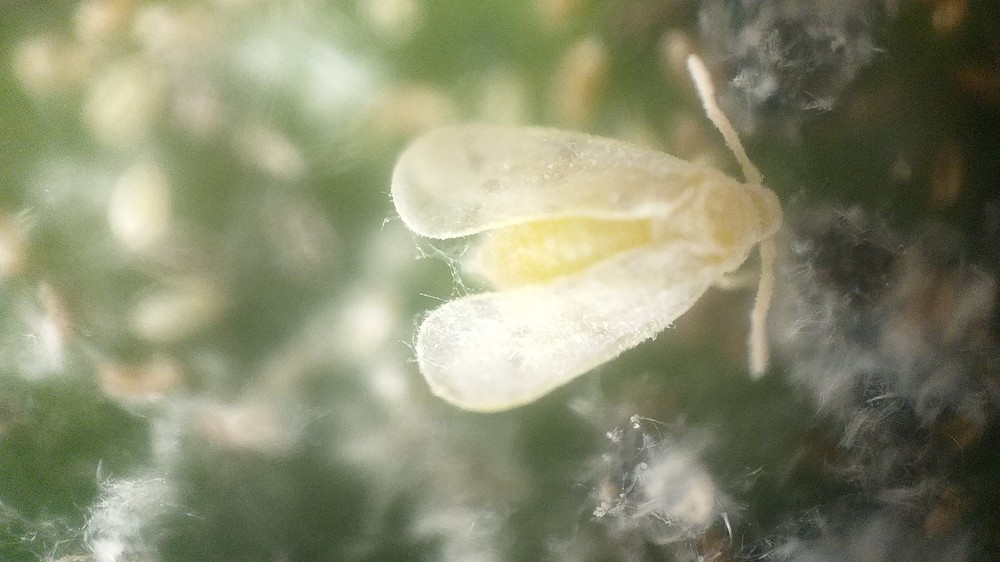Mosca Blanca: (381, 48, 794, 439)
